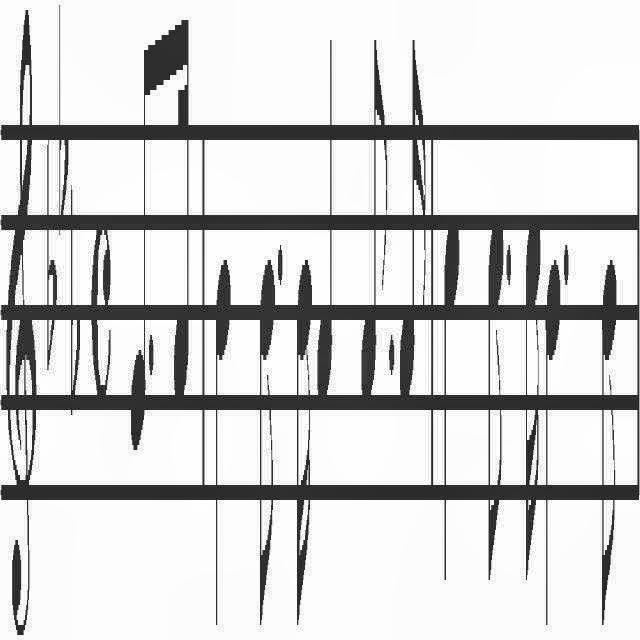Bass-clef: (6, 2, 38, 640)
Bemol: (46, 127, 58, 377), (58, 0, 70, 244), (70, 176, 82, 420)
Eighth-note: (360, 27, 388, 405), (128, 24, 148, 460), (257, 242, 277, 636), (598, 245, 618, 638), (486, 212, 506, 592)
Quarter-note: (316, 22, 336, 406), (213, 247, 231, 640), (442, 215, 460, 598), (543, 247, 560, 640)
Sixteenth-note: (399, 18, 427, 412), (172, 5, 192, 408), (294, 250, 314, 634), (524, 207, 542, 597)
